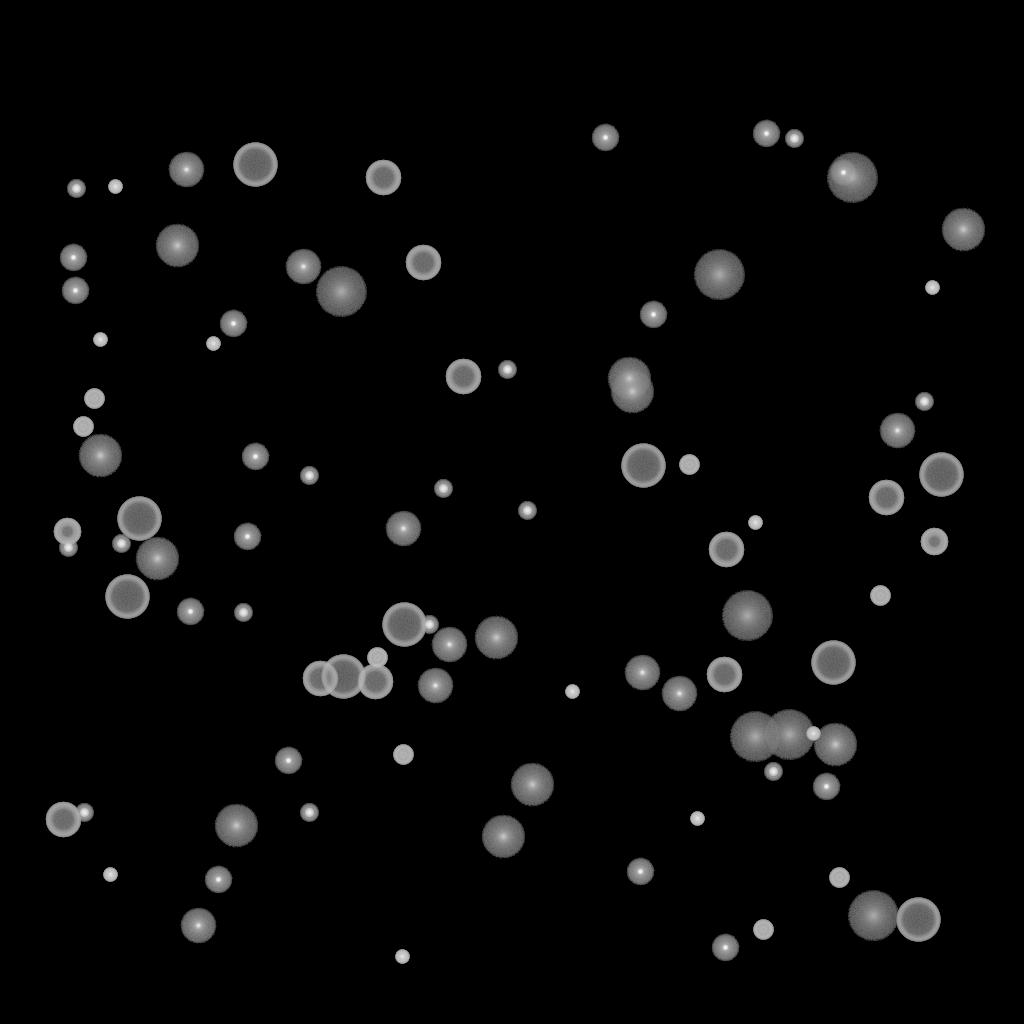depth:-10: (176, 598, 204, 626), (241, 443, 269, 471), (61, 277, 89, 305), (591, 124, 619, 152), (59, 244, 87, 272), (752, 120, 780, 148), (219, 310, 247, 338), (274, 747, 302, 775), (639, 301, 667, 329), (711, 934, 739, 962), (204, 866, 232, 894), (829, 159, 857, 187), (626, 858, 654, 886), (812, 773, 840, 801), (233, 523, 261, 551)
depth:-20: (234, 604, 252, 622), (915, 393, 933, 411), (300, 804, 318, 822), (518, 502, 536, 520), (764, 763, 782, 781), (75, 804, 93, 822), (434, 480, 452, 498), (59, 539, 77, 557), (300, 467, 318, 485), (112, 535, 130, 553), (67, 180, 85, 198), (785, 130, 803, 148), (498, 361, 516, 379), (420, 616, 438, 634)
depth:-30: (395, 950, 409, 964), (108, 180, 122, 194), (93, 333, 107, 347), (103, 868, 117, 882), (925, 281, 939, 295), (565, 685, 579, 699), (206, 337, 220, 351), (690, 812, 704, 826), (748, 516, 762, 530), (806, 727, 820, 741)
depth:-40: (870, 586, 890, 606), (829, 868, 849, 888), (73, 417, 93, 437), (393, 745, 413, 765), (679, 455, 699, 475), (753, 920, 773, 940), (367, 648, 387, 668), (84, 389, 104, 409)
depth:-50: (920, 528, 948, 556), (53, 518, 81, 546)
depth:-60: (445, 359, 481, 395), (708, 532, 744, 568), (706, 657, 742, 693), (405, 245, 441, 281), (365, 160, 401, 196), (45, 802, 81, 838), (357, 664, 393, 700), (868, 480, 904, 516), (302, 661, 338, 697)
depth:-70: (621, 444, 665, 488), (919, 453, 963, 497), (811, 641, 855, 685), (105, 575, 149, 619), (117, 497, 161, 541), (233, 143, 277, 187), (321, 655, 365, 699), (382, 603, 426, 647), (896, 898, 940, 942)
depth:0: (624, 655, 660, 691), (285, 249, 321, 285), (879, 413, 915, 449), (385, 511, 421, 547), (180, 908, 216, 944), (168, 152, 204, 188), (661, 676, 697, 712), (417, 668, 453, 704), (431, 627, 467, 663)
depth:10: (214, 804, 258, 848), (607, 357, 651, 401), (510, 763, 554, 807), (481, 815, 525, 859), (78, 434, 122, 478), (941, 208, 985, 252), (135, 537, 179, 581), (813, 723, 857, 767), (610, 370, 654, 414), (474, 616, 518, 660), (155, 224, 199, 268)
depth:20: (721, 591, 773, 641), (847, 891, 899, 941), (763, 710, 815, 760), (315, 267, 367, 317), (826, 153, 878, 203), (729, 712, 781, 762), (693, 250, 745, 300)
